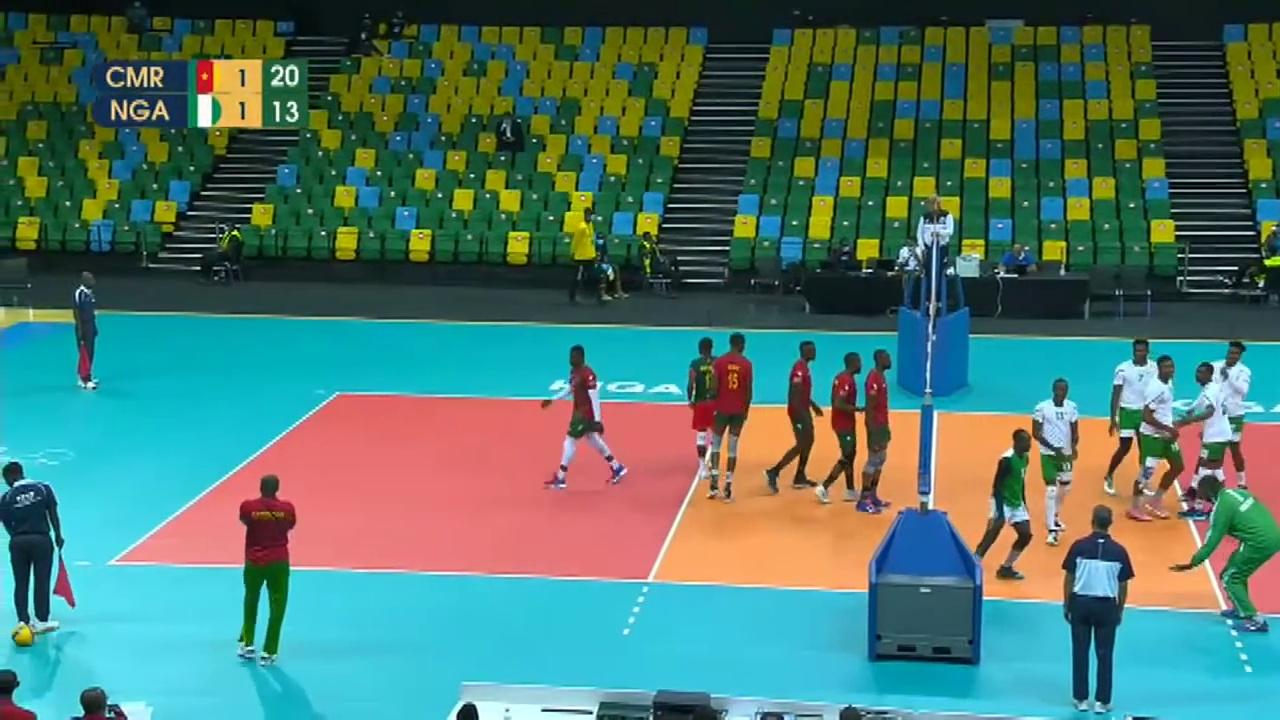player: (536, 342, 630, 488), (1129, 352, 1184, 527), (773, 326, 826, 499), (1029, 361, 1081, 537), (1202, 338, 1260, 491), (816, 346, 869, 509), (983, 421, 1034, 586), (1111, 329, 1159, 501), (860, 347, 901, 516), (1188, 361, 1231, 521), (718, 331, 749, 507), (691, 330, 724, 478)
refree: (1058, 500, 1138, 715), (0, 463, 72, 637), (914, 192, 957, 309), (74, 272, 104, 392)
